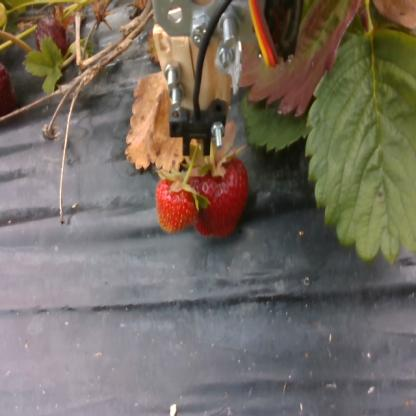ripe: (192, 163, 248, 237), (158, 182, 194, 231)
